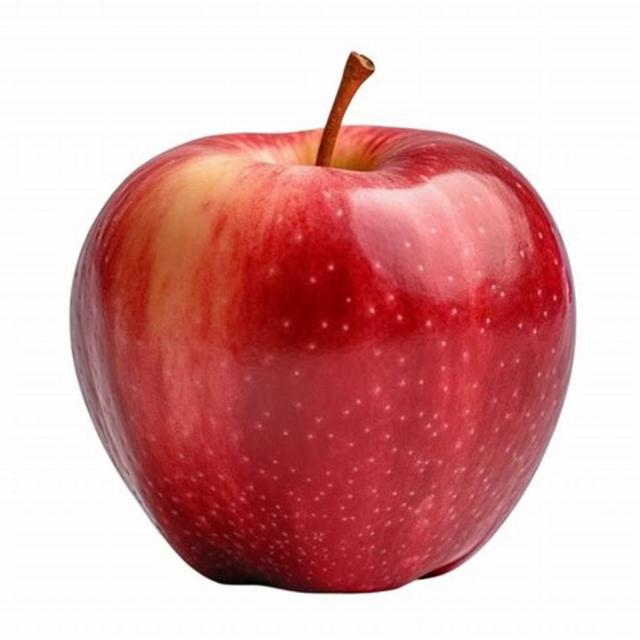Apple: (69, 53, 579, 593)
